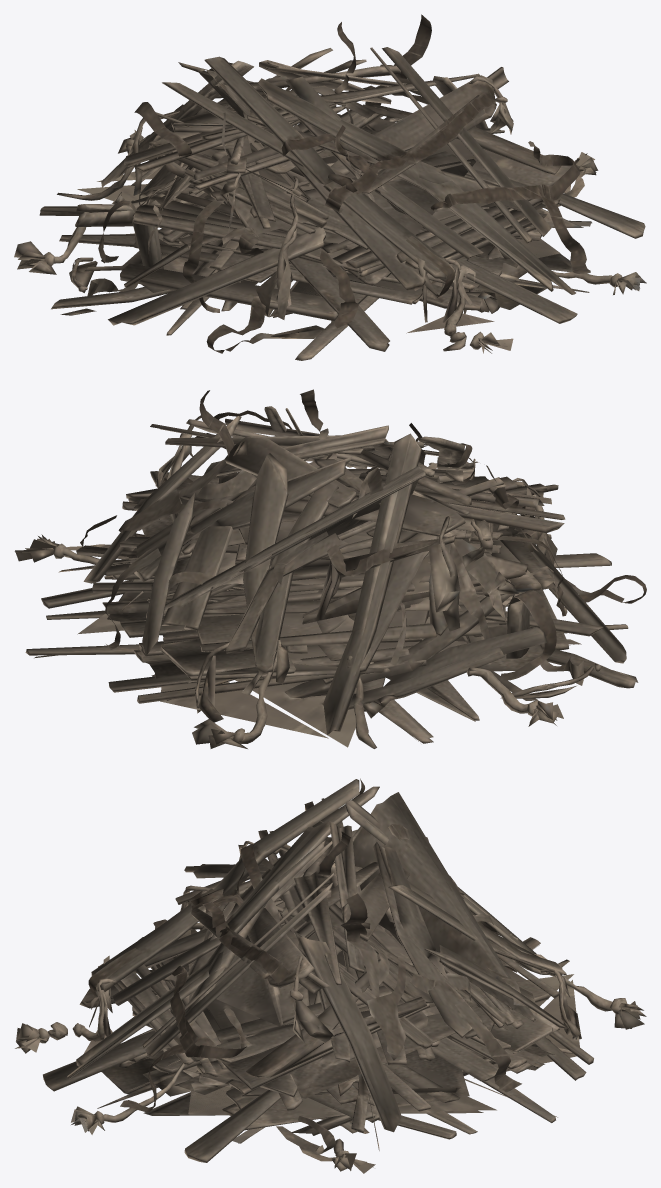
Rendered from des-crates-rubble_optimized.glb.
The picture shows the model from 3 angles, top to bottom: view 1: azimuth 30°, elevation 25°; view 2: azimuth 150°, elevation 25°; view 3: azimuth 270°, elevation 25°; orthographic projection. The views are drawn at different scales.
Parts seen in each view (by area): view 1: Mesh_0; view 2: Mesh_0; view 3: Mesh_0.
Boxes of the visible parts, <box> form: Mesh_0: <box>14,14,646,360</box>; Mesh_0: <box>14,389,646,748</box>; Mesh_0: <box>15,778,646,1173</box>.
Bounding box in the file's own units: 0.9575 × 0.3564 × 0.9258.
Materials: 1 (1 with a texture image).
